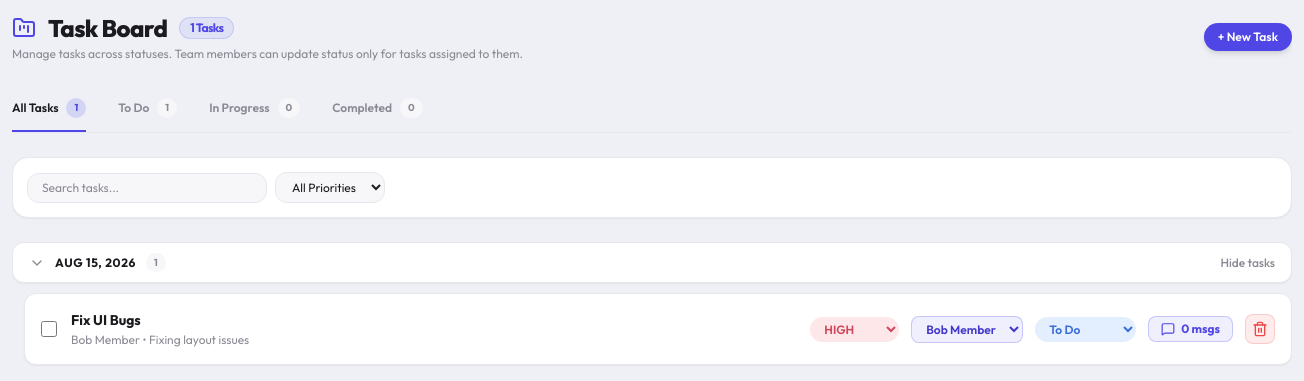
Scenario: TaskBoard Component Status-Change Tests › allows Project Manager to update task status even if not assigned
Select "Completed" in the 4th dropdown: (1086, 329) [1035,316,1136,342]
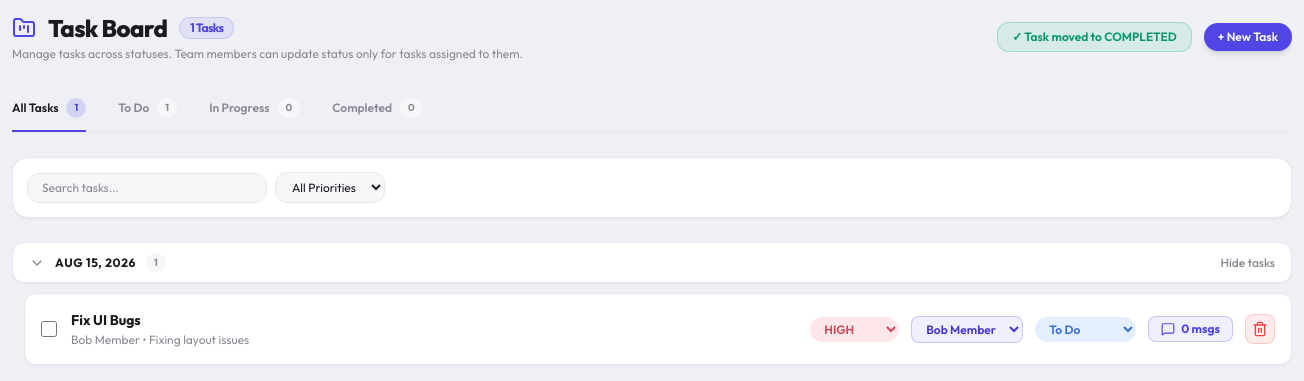
expect the text "✓ Task moved to COMPLETED" is shown: met, box [997,22,1192,52]
